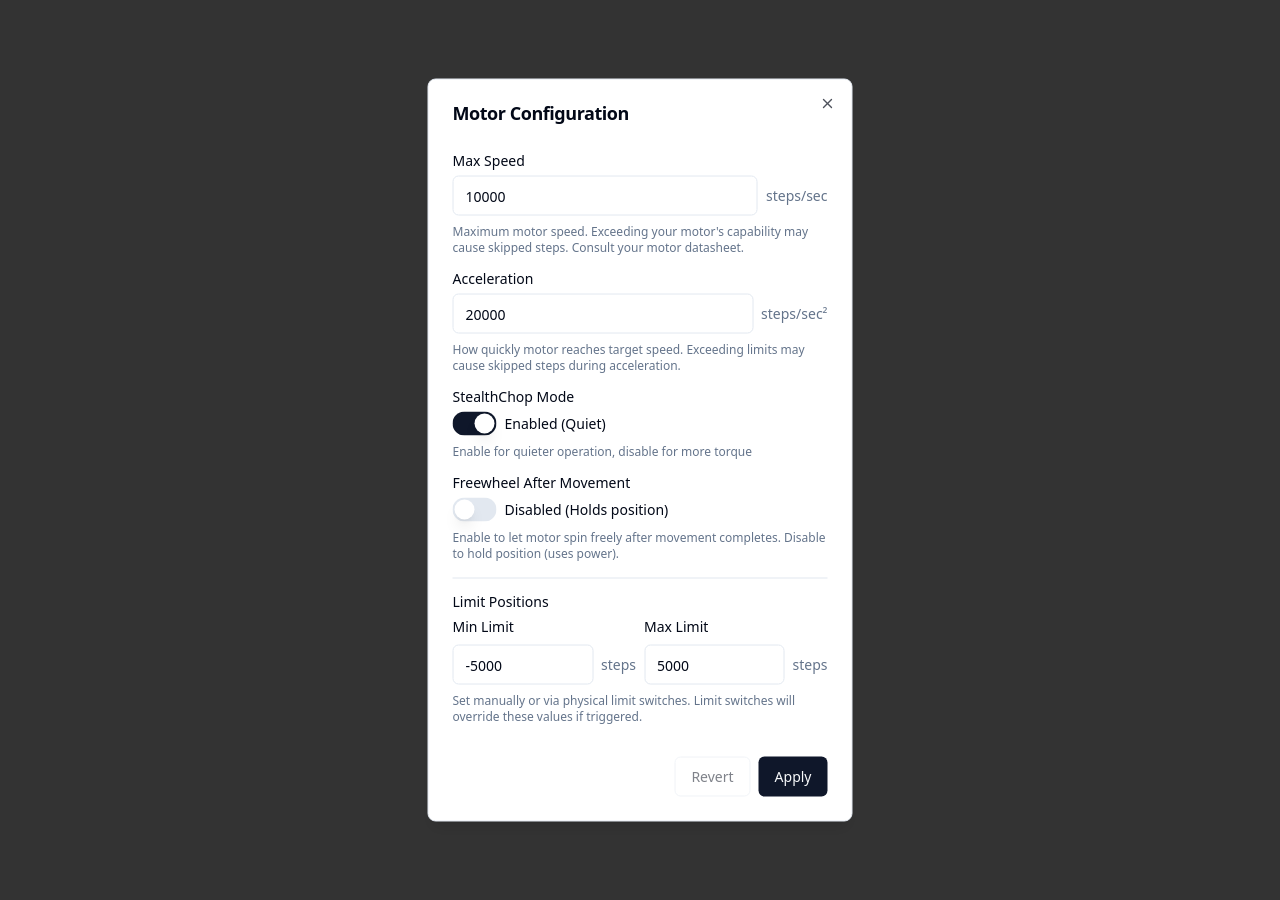
Test: MotorConfigDialog - Input Validation › should show error when acceleration is below 100
Replace the text in the number field labelled "Acceleration" with "50" at {"x": 603, "y": 314}, box [452, 294, 753, 334]
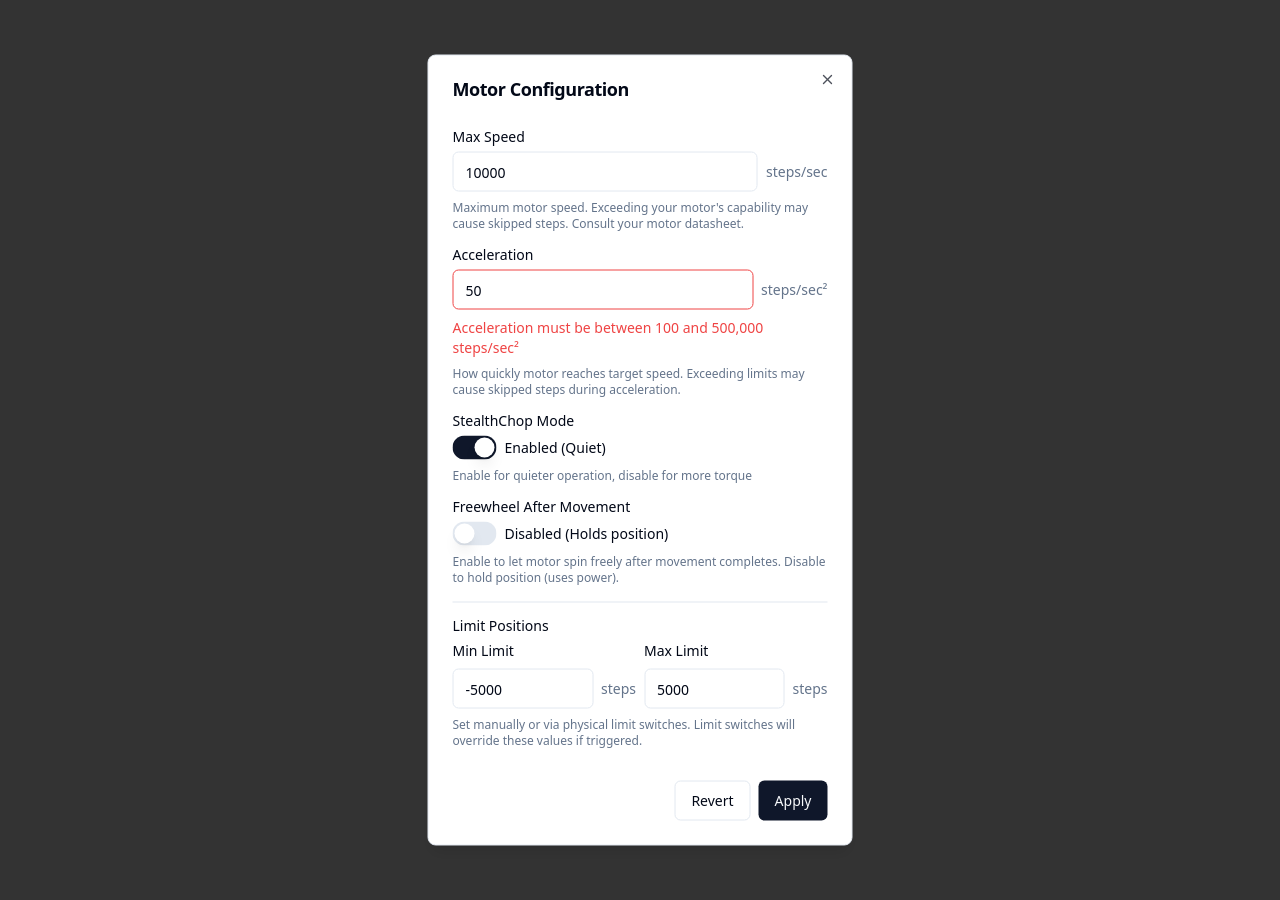
Check: the text "Acceleration must be between 100 and 500,000 steps/sec²" is shown, box [452, 318, 763, 356]
